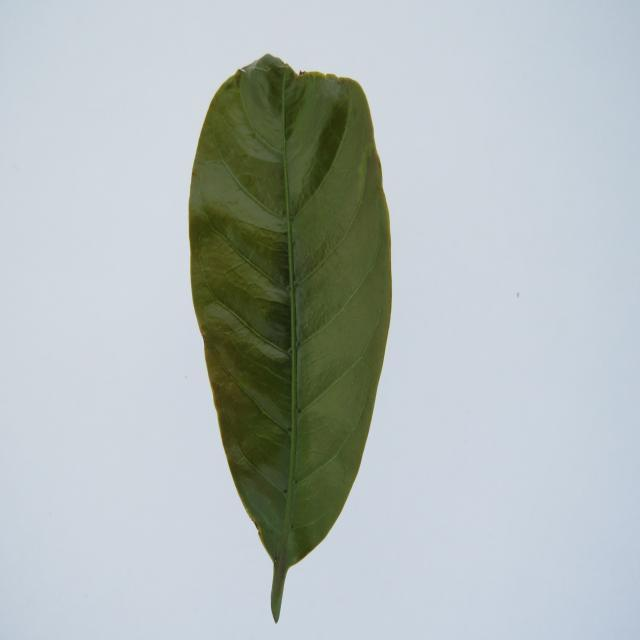DeficienciaNutricional-Boro: (189, 55, 391, 622)
